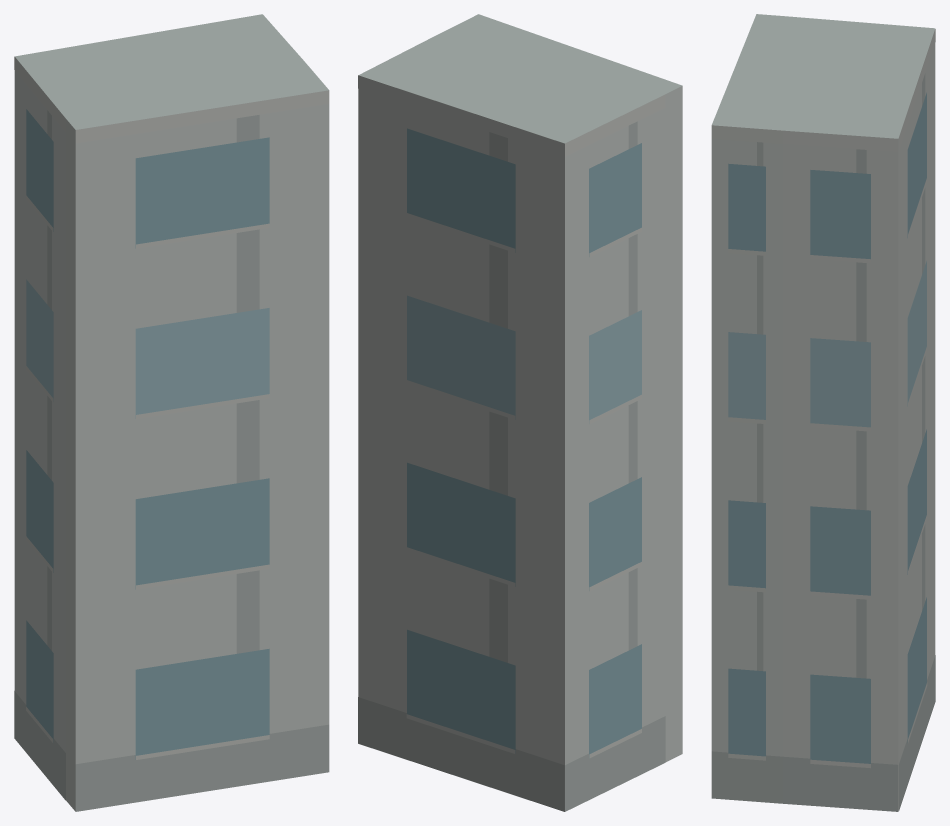
The model's file is survey-upis-32701050.glb.
3 views of the same model, side by side, from view 1: azimuth 30°, elevation 25°; view 2: azimuth 150°, elevation 25°; view 3: azimuth 270°, elevation 25° (orthographic). The views are drawn at different scales.
Parts seen in each view (by area): view 1: survey-upis-32701050.tmp; view 2: survey-upis-32701050.tmp; view 3: survey-upis-32701050.tmp.
Boxes of the visible parts, x1,y1,x2,y2 form: survey-upis-32701050.tmp: (14,14,329,811); survey-upis-32701050.tmp: (358,14,682,811); survey-upis-32701050.tmp: (711,14,935,811).
Bounding box in the file's own units: 4.86 × 12.2 × 3.69.
